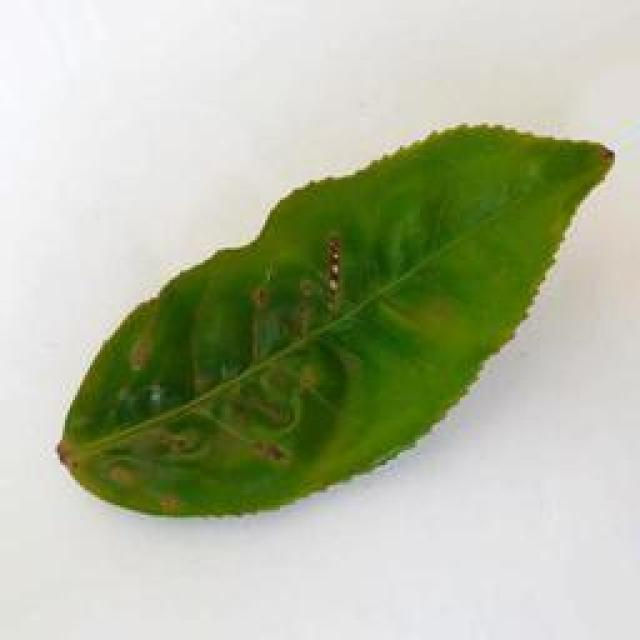Helopeltis: (57, 120, 626, 525)
